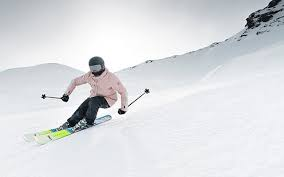skis: (27, 112, 113, 147)
